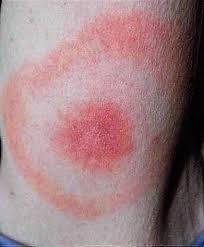Tick: (20, 51, 164, 215)
